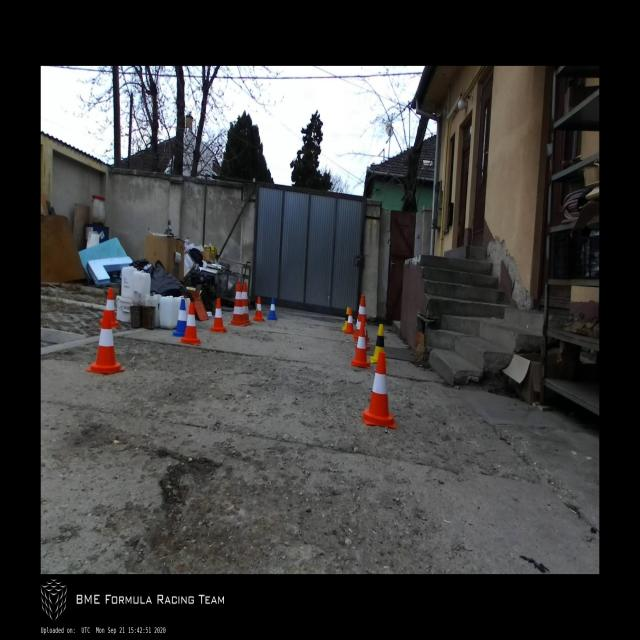blue_cone: (173, 300, 186, 336), (268, 298, 277, 319)
large_orange_cone: (228, 282, 247, 325), (353, 297, 368, 341), (242, 282, 252, 324)
orange_cone: (362, 352, 397, 428), (86, 311, 125, 374), (180, 302, 201, 344), (351, 323, 370, 368), (100, 288, 118, 326), (210, 299, 226, 332), (254, 297, 264, 321), (345, 309, 354, 333)
yellow_cone: (370, 324, 388, 365), (342, 307, 349, 329)
